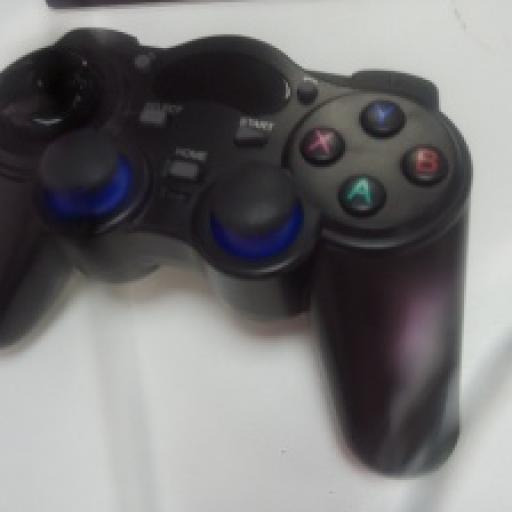game pad: (2, 27, 471, 473)
